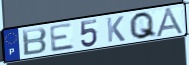5: (79, 18, 99, 48)
A: (155, 6, 187, 38)
B: (21, 27, 49, 57)
E: (48, 21, 76, 53)
K: (105, 15, 127, 44)
Q: (128, 11, 159, 41)
